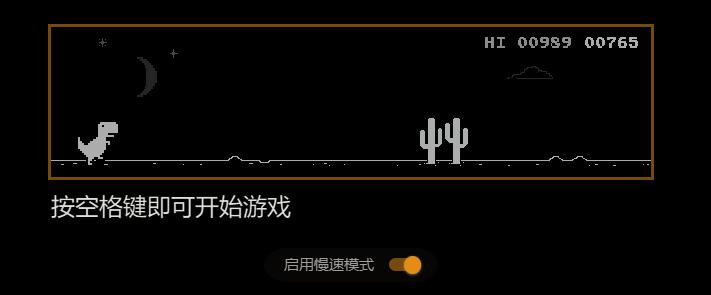cactus: (420, 117, 471, 166)
dino: (75, 120, 119, 165)
